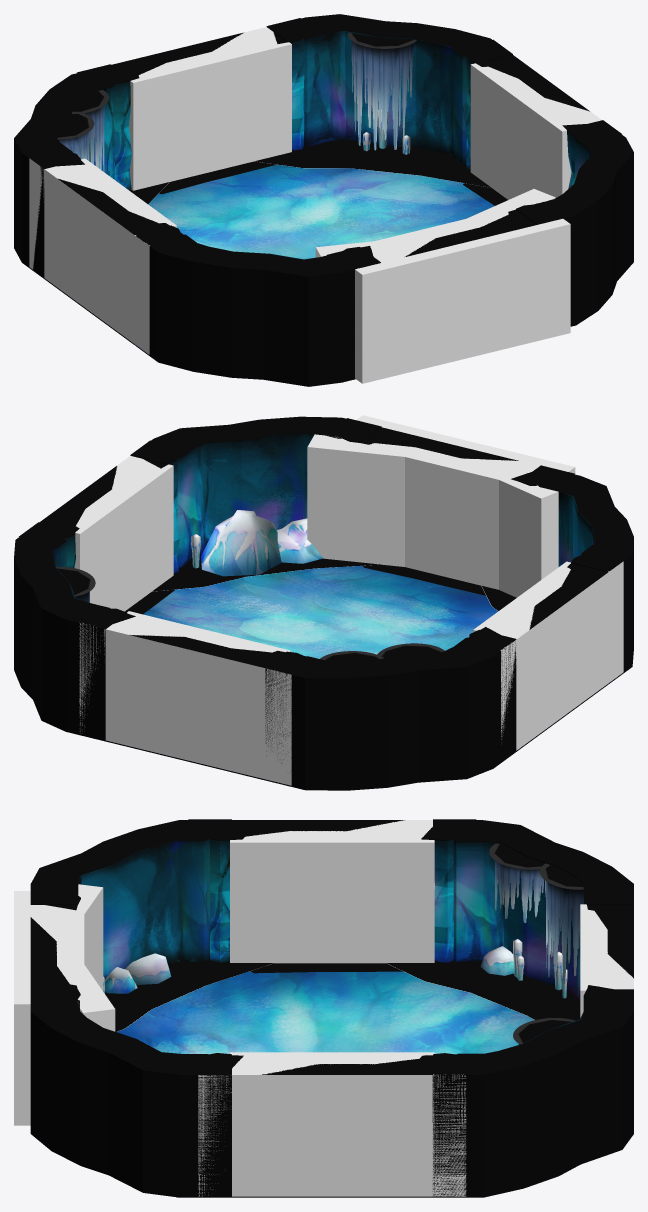
Rendered from Dungeon_072_StartRoom_001_009.fbx.
The picture shows the model from 3 angles, top to bottom: view 1: azimuth 30°, elevation 25°; view 2: azimuth 150°, elevation 25°; view 3: azimuth 270°, elevation 25°; orthographic projection. The views are drawn at different scales.
Parts seen in each view (by area): view 1: Dun_072_StartRoom_002_wall, DoorWay_NavMask (1) (×3), DoorWay_NavMask (3) (×3), Dun_072_StartRoom_002_ground, Dun_072_Door_002 (×4), Dun_072_OB_Icicle, Dun_072_StartRoom_002_shadow, DoorWay_NavMask (2) (×2), DoorWay_NavMask (4), Dun_072_Door_002_shadow, Dun_072_OB_Ice_crystals01; view 2: Dun_072_StartRoom_002_wall, DoorWay_NavMask (3) (×4), DoorWay_NavMask (1) (×4), Dun_072_StartRoom_002_ground, Dun_072_Door_002 (×4), DoorWay_NavMask (4), DoorWay_NavMask (2) (×3), Dun_072_OB_Stone02, Dun_072_StartRoom_002_shadow, Dun_072_OB_Icicle, Dun_072_Door_002_shadow; view 3: Dun_072_StartRoom_002_wall, DoorWay_NavMask (1) (×4), DoorWay_NavMask (3) (×4), Dun_072_StartRoom_002_ground, Dun_072_Door_002 (×4), Dun_072_StartRoom_002_shadow, Dun_072_OB_Icicle, DoorWay_NavMask (2) (×4), Dun_072_OB_Stone01, DoorWay_NavMask (4), Dun_072_Door_002_shadow, Dun_072_OB_Ice_crystals01.
Boxes of the visible parts, x1=… form: Dun_072_StartRoom_002_wall: x1=14, y1=14, x2=633, y2=386; DoorWay_NavMask (1) (×3): x1=43, y1=27, x2=588, y2=342; DoorWay_NavMask (3) (×3): x1=29, y1=74, x2=601, y2=383; Dun_072_StartRoom_002_ground: x1=134, y1=164, x2=494, y2=345; Dun_072_Door_002 (×4): x1=25, y1=18, x2=621, y2=344; Dun_072_OB_Icicle: x1=56, y1=32, x2=416, y2=171; Dun_072_StartRoom_002_shadow: x1=130, y1=139, x2=491, y2=204; DoorWay_NavMask (2) (×2): x1=227, y1=33, x2=433, y2=257; DoorWay_NavMask (4): x1=451, y1=189, x2=555, y2=230; Dun_072_Door_002_shadow: x1=159, y1=161, x2=276, y2=194; Dun_072_OB_Ice_crystals01: x1=362, y1=109, x2=410, y2=154; Dun_072_StartRoom_002_wall: x1=14, y1=416, x2=633, y2=790; DoorWay_NavMask (3) (×4): x1=79, y1=415, x2=623, y2=785; DoorWay_NavMask (1) (×4): x1=74, y1=443, x2=570, y2=777; Dun_072_StartRoom_002_ground: x1=143, y1=565, x2=609, y2=684; Dun_072_Door_002 (×4): x1=19, y1=418, x2=627, y2=780; DoorWay_NavMask (4): x1=307, y1=434, x2=430, y2=566; DoorWay_NavMask (2) (×3): x1=115, y1=458, x2=558, y2=635; Dun_072_OB_Stone02: x1=201, y1=510, x2=322, y2=576; Dun_072_StartRoom_002_shadow: x1=152, y1=554, x2=516, y2=611; Dun_072_OB_Icicle: x1=56, y1=567, x2=444, y2=661; Dun_072_Door_002_shadow: x1=363, y1=564, x2=485, y2=595; Dun_072_StartRoom_002_wall: x1=30, y1=820, x2=633, y2=1197; DoorWay_NavMask (1) (×4): x1=30, y1=820, x2=627, y2=1196; DoorWay_NavMask (3) (×4): x1=14, y1=820, x2=633, y2=1196; Dun_072_StartRoom_002_ground: x1=116, y1=971, x2=534, y2=1197; Dun_072_Door_002 (×4): x1=30, y1=819, x2=633, y2=1197; Dun_072_StartRoom_002_shadow: x1=105, y1=959, x2=580, y2=1031; Dun_072_OB_Icicle: x1=489, y1=843, x2=583, y2=1044; DoorWay_NavMask (2) (×4): x1=60, y1=822, x2=627, y2=1072; Dun_072_OB_Stone01: x1=104, y1=946, x2=514, y2=993; DoorWay_NavMask (4): x1=57, y1=954, x2=115, y2=1031; Dun_072_Door_002_shadow: x1=250, y1=963, x2=403, y2=973; Dun_072_OB_Ice_crystals01: x1=103, y1=939, x2=567, y2=998.
Size of what is drawn, in the model's own units: 9 by 2.08 by 9.25.
